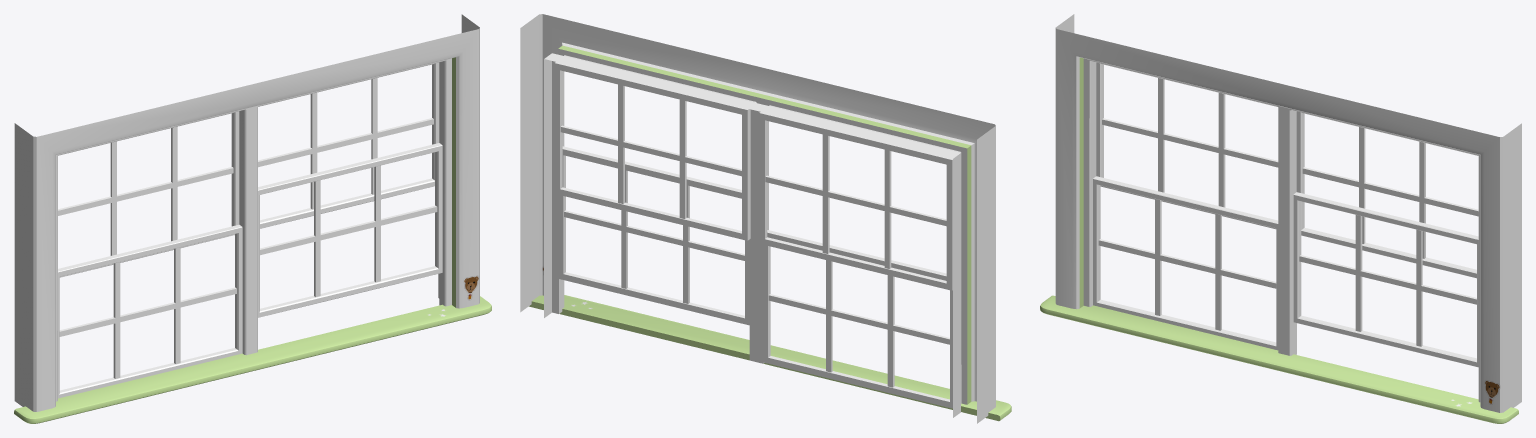
The model's file is Bedroom_Window_Frame.FBX.
The picture shows the model from 3 angles, left to right: view 1: azimuth 30°, elevation 25°; view 2: azimuth 150°, elevation 25°; view 3: azimuth 330°, elevation 25°; orthographic projection. The views are drawn at different scales.
Parts seen in each view (by area): view 1: Bedroom_Window_Frame; view 2: Bedroom_Window_Frame; view 3: Bedroom_Window_Frame.
Part boxes in pixels (x1=…): Bedroom_Window_Frame: x1=14, y1=14, x2=491, y2=423; Bedroom_Window_Frame: x1=520, y1=14, x2=1011, y2=423; Bedroom_Window_Frame: x1=1040, y1=14, x2=1521, y2=423.
Size of the model in its own units: 210 by 121 by 20.64.
1 material, 1 textured.
